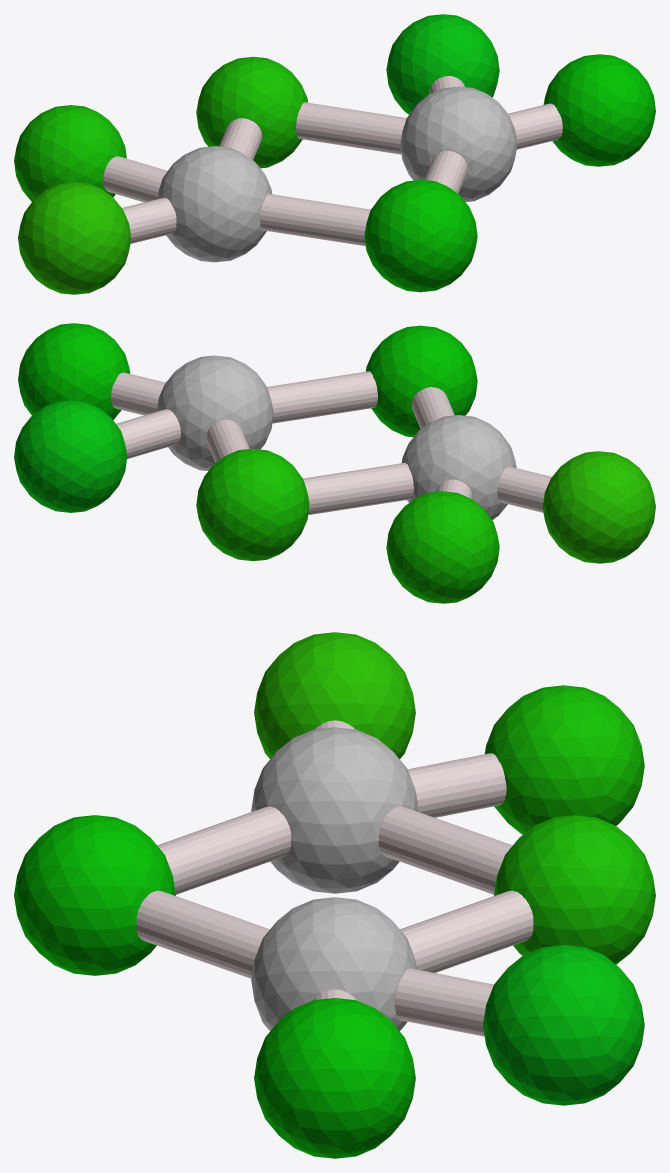
Rendered from aluminum_chloride.glb.
3 renders of one model, top to bottom at view 1: azimuth 30°, elevation 25°; view 2: azimuth 150°, elevation 25°; view 3: azimuth 270°, elevation 25°, orthographic. The views are drawn at different scales.
Visible parts, largest first — view 1: Cl_3, Cl_1, Al_1, Cl_5, Al_2, Cl_2, Cl_6, Cl_4, AlCl_bond_1, AlCl_bond_4, AlCl_bond_6, AlCl_bond_5 (+3 smaller); view 2: Cl_3, Cl_4, Cl_6, Cl_2, Al_2, Cl_1, Cl_5, Al_1, AlCl_bond_3, AlCl_bond_2, AlCl_bond_8, AlCl_bond_5 (+3 smaller); view 3: Cl_6, Cl_5, Cl_1, Al_1, Cl_4, Cl_2, Al_2, Cl_3, AlCl_bond_1, AlCl_bond_3, AlCl_bond_2, AlCl_bond_4 (+2 smaller).
Part boxes in pixels (x1,y1,x2,y2): Cl_3: [18, 182, 131, 294]; Cl_1: [364, 179, 477, 292]; Al_1: [157, 146, 272, 262]; Cl_5: [543, 54, 655, 166]; Al_2: [400, 86, 517, 202]; Cl_2: [196, 56, 307, 168]; Cl_6: [386, 14, 499, 114]; Cl_4: [14, 105, 126, 201]; AlCl_bond_1: [260, 194, 370, 246]; AlCl_bond_4: [296, 102, 406, 154]; AlCl_bond_6: [103, 156, 167, 202]; AlCl_bond_5: [122, 198, 176, 243]; Cl_3: [542, 451, 655, 563]; Cl_4: [386, 491, 499, 603]; Cl_6: [14, 400, 127, 512]; Cl_2: [196, 448, 309, 561]; Al_2: [157, 355, 273, 470]; Cl_1: [366, 325, 477, 437]; Cl_5: [18, 323, 130, 419]; Al_1: [401, 415, 516, 519]; AlCl_bond_3: [303, 463, 413, 514]; AlCl_bond_2: [267, 371, 377, 423]; AlCl_bond_8: [116, 409, 180, 458]; AlCl_bond_5: [497, 466, 551, 512]; Cl_6: [483, 945, 644, 1105]; Cl_5: [254, 998, 415, 1158]; Cl_1: [14, 815, 175, 975]; Al_1: [251, 727, 418, 893]; Cl_4: [484, 685, 644, 834]; Cl_2: [494, 815, 655, 964]; Al_2: [251, 897, 416, 1031]; Cl_3: [254, 632, 415, 758]; AlCl_bond_1: [157, 806, 291, 894]; AlCl_bond_3: [378, 806, 512, 894]; AlCl_bond_2: [136, 890, 269, 978]; AlCl_bond_4: [400, 890, 533, 972].
Size of the model in its own units: 3.68 by 0.6 by 2.3.
